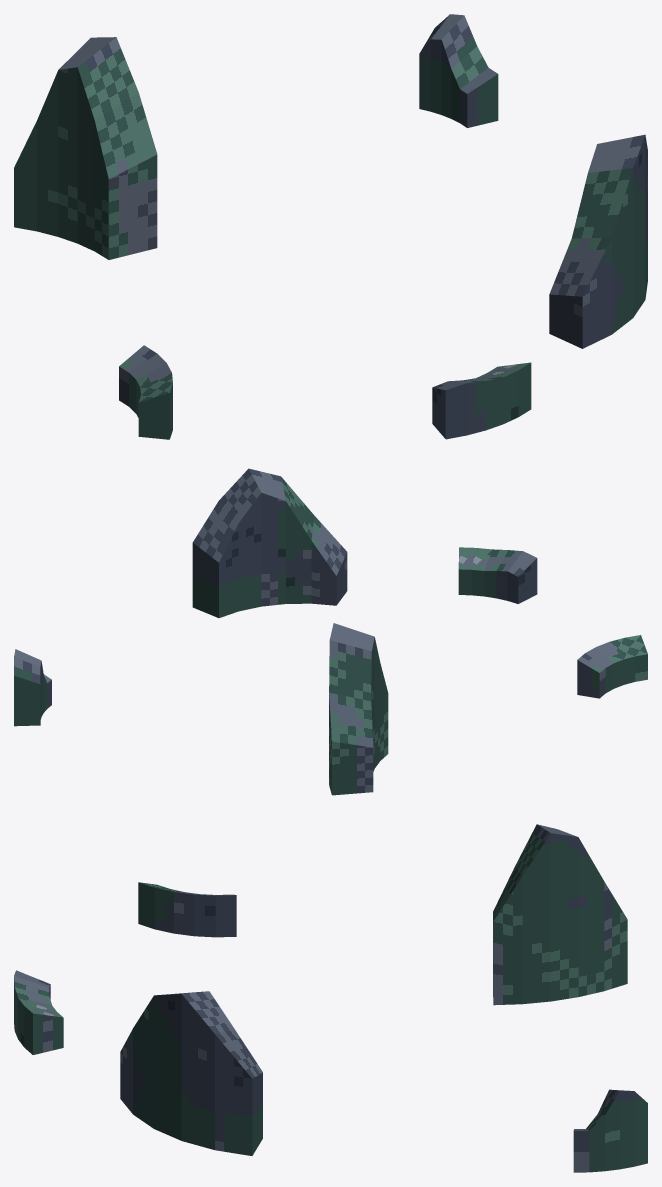
The model's file is SM_Prop_GalleryJugShards_01.glb.
3 renders of one model, top to bottom at view 1: azimuth 30°, elevation 25°; view 2: azimuth 150°, elevation 25°; view 3: azimuth 270°, elevation 25°, orthographic. The views are drawn at different scales.
Parts seen in each view (by area): view 1: clay_shard_0, clay_shard_1, clay_shard_2, clay_shard_4, clay_shard_3; view 2: clay_shard_1, clay_shard_0, clay_shard_4, clay_shard_3, clay_shard_2; view 3: clay_shard_0, clay_shard_1, clay_shard_2, clay_shard_3, clay_shard_4.
Boxes of the visible parts, x1,y1,x2,y2 form: clay_shard_0: (14,37,157,259); clay_shard_1: (549,134,647,348); clay_shard_2: (419,14,498,127); clay_shard_4: (432,362,531,439); clay_shard_3: (119,345,172,439); clay_shard_1: (192,468,347,617); clay_shard_0: (329,623,388,795); clay_shard_4: (458,547,537,603); clay_shard_3: (577,635,647,698); clay_shard_2: (14,649,51,726); clay_shard_0: (493,824,627,1005); clay_shard_1: (120,991,262,1155); clay_shard_2: (573,1089,647,1172); clay_shard_3: (138,882,236,937); clay_shard_4: (14,970,63,1054).
Bounding box in the file's own units: 0.4367 × 0.1331 × 0.4542.
Materials: 1 (1 with a texture image).
